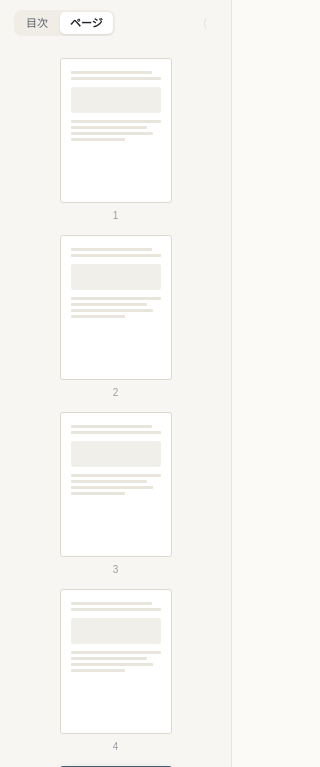
Test case: PdfSidebar (2a §4.2.2) › switching to the 目次 tab renders the TOC rows and on-demand appendix box
The width and height of the screenshot is (320, 767).
Click the radio button "目次" at (37, 23), box [16,12,58,34]
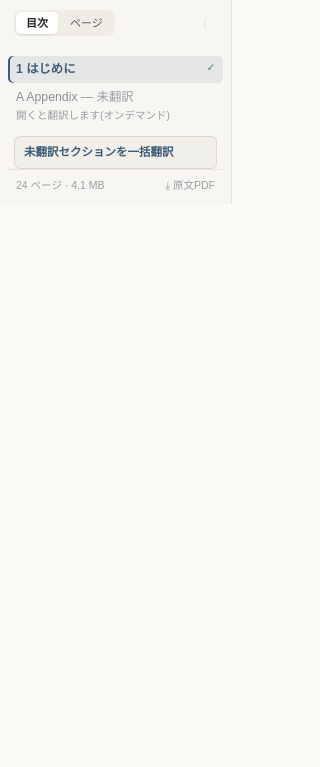
Expected: the button "1 はじめに ✓" is shown, [8,56,223,83]
Expected: the text "開くと翻訳します(オンデマンド)" is shown, [16,109,170,121]
